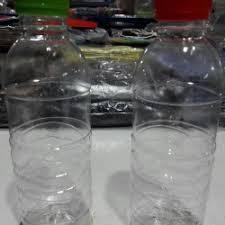BIODEGRADABLE: (2, 2, 99, 224), (132, 1, 220, 224)
